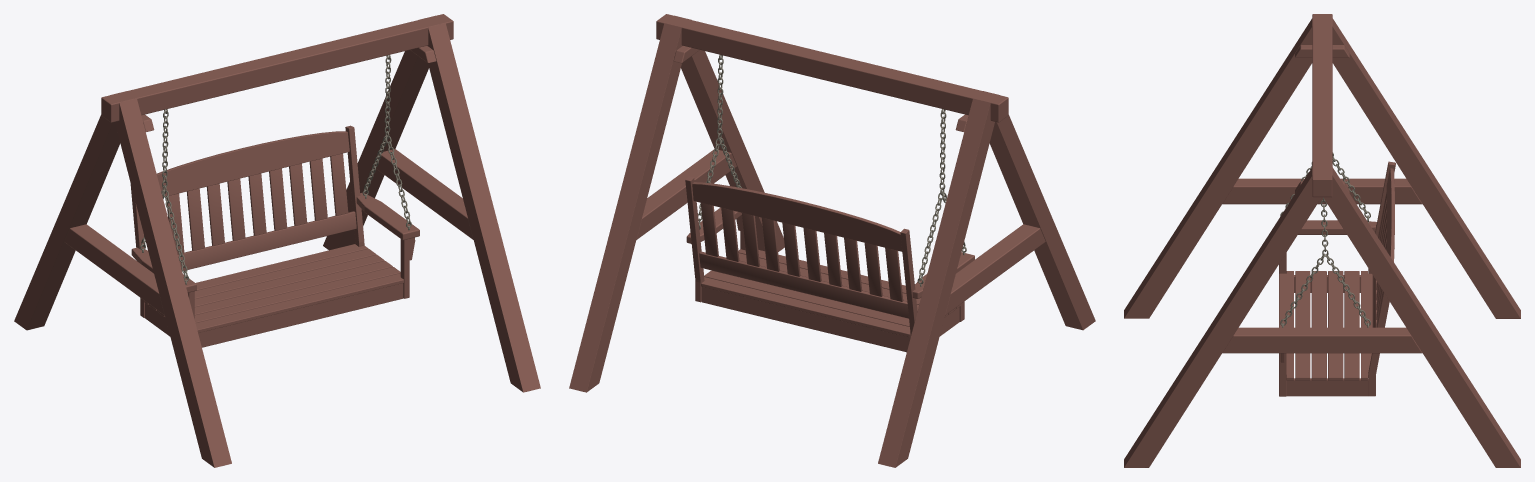
File: wooden outdoor porch swing.fbx
The picture shows the model from 3 angles, left to right: view 1: azimuth 30°, elevation 25°; view 2: azimuth 150°, elevation 25°; view 3: azimuth 270°, elevation 25°; orthographic projection.
Visible parts, largest first — view 1: Legs, SeatBottom, SeatBack, Top, CrossBar, SeatBack.001, Arms, BackLegs, Torus.001, Torus.003, FrontLegs; view 2: Legs, SeatBack, Top, SeatBottom, CrossBar, SeatBack.001, BackLegs, Torus.003, Arms, Torus.002; view 3: Legs, CrossBar, SeatBottom, Top, SideRails, BackLegs, SeatBack.001, SeatBack, Torus.002, Arms, CrossBar.001, FrontLegs (+1 smaller).
Part boxes in pixels (x1,y1,x2,y2): Legs: [14, 15, 540, 467]; SeatBottom: [144, 244, 403, 347]; SeatBack: [166, 153, 356, 270]; Top: [101, 14, 453, 122]; CrossBar: [64, 149, 473, 315]; SeatBack.001: [156, 131, 349, 196]; Arms: [131, 192, 419, 292]; BackLegs: [130, 125, 364, 317]; Torus.001: [163, 136, 410, 278]; Torus.003: [162, 56, 391, 192]; FrontLegs: [187, 237, 415, 318]; Legs: [569, 15, 1095, 467]; SeatBack: [699, 203, 908, 318]; Top: [656, 14, 1008, 122]; SeatBottom: [701, 249, 960, 352]; CrossBar: [636, 149, 1045, 315]; SeatBack.001: [692, 182, 902, 251]; BackLegs: [685, 176, 917, 337]; Torus.003: [717, 57, 946, 194]; Arms: [686, 207, 974, 298]; Torus.002: [698, 138, 943, 280]; Legs: [1124, 18, 1520, 467]; CrossBar: [1222, 178, 1422, 353]; SeatBottom: [1279, 271, 1372, 380]; Top: [1312, 14, 1332, 197]; SideRails: [1286, 275, 1368, 396]; BackLegs: [1368, 161, 1395, 396]; SeatBack.001: [1386, 168, 1394, 261]; SeatBack: [1372, 192, 1386, 327]; Torus.002: [1325, 152, 1370, 325]; Arms: [1298, 220, 1376, 234]; CrossBar.001: [1295, 45, 1349, 193]; FrontLegs: [1279, 253, 1286, 396].
Bounding box in the file's own units: 2371 × 1955 × 2403.
